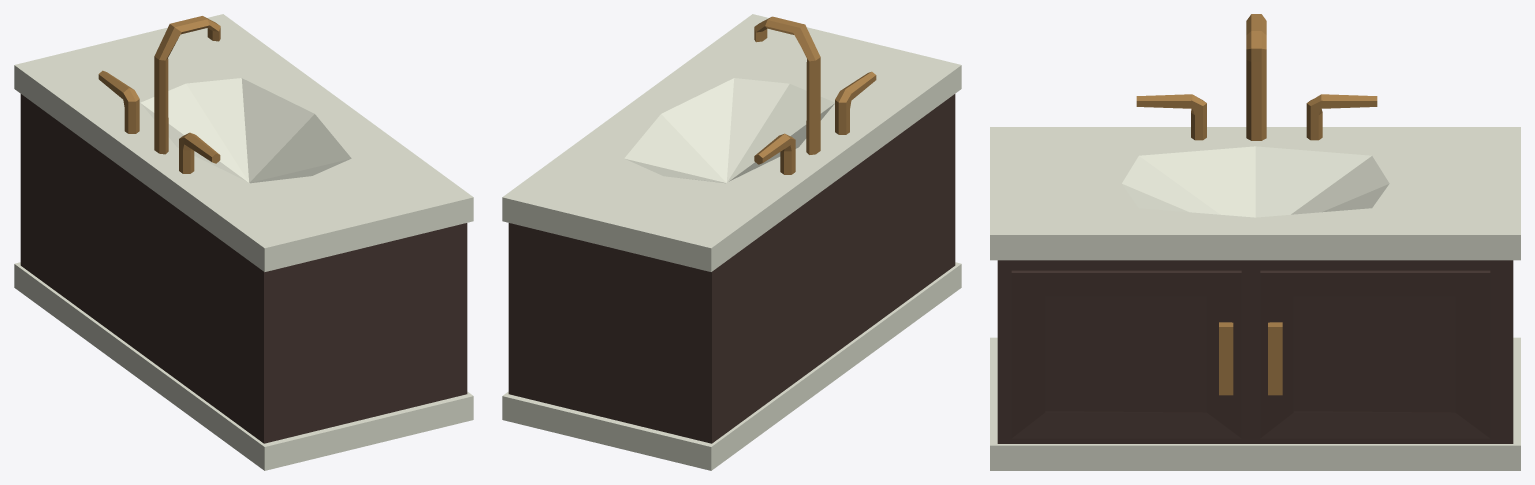
The model's file is Sink.fbx.
The picture shows the model from 3 angles, left to right: view 1: azimuth 30°, elevation 25°; view 2: azimuth 150°, elevation 25°; view 3: azimuth 270°, elevation 25°; orthographic projection. The views are drawn at different scales.
Parts seen in each view (by area): view 1: Cube, Cube.001, Cube.002, Cylinder, Cylinder.001, Cylinder.002; view 2: Cube, Cube.001, Cube.002, Cylinder, Cylinder.002, Cylinder.001; view 3: Cube.001, Cube, Cube.003, Cube.004, Cube.002, Cylinder, Cylinder.001, Cylinder.002, Cube.006, Cube.005.
Boxes of the visible parts, bbox=[...] form: Cube: bbox=[20, 94, 467, 443]; Cube.001: bbox=[14, 14, 473, 271]; Cube.002: bbox=[14, 262, 473, 470]; Cylinder: bbox=[154, 16, 220, 154]; Cylinder.001: bbox=[98, 70, 139, 133]; Cylinder.002: bbox=[179, 132, 220, 173]; Cube: bbox=[508, 94, 955, 443]; Cube.001: bbox=[502, 14, 961, 271]; Cube.002: bbox=[502, 262, 961, 470]; Cylinder: bbox=[754, 16, 820, 154]; Cylinder.002: bbox=[835, 71, 876, 134]; Cylinder.001: bbox=[754, 133, 795, 174]; Cube.001: bbox=[990, 127, 1520, 260]; Cube: bbox=[997, 260, 1513, 443]; Cube.003: bbox=[1011, 270, 1241, 438]; Cube.004: bbox=[1260, 270, 1490, 438]; Cube.002: bbox=[990, 337, 1520, 470]; Cylinder: bbox=[1246, 14, 1266, 140]; Cylinder.001: bbox=[1306, 94, 1377, 140]; Cylinder.002: bbox=[1136, 94, 1206, 140]; Cube.006: bbox=[1268, 322, 1282, 395]; Cube.005: bbox=[1219, 322, 1233, 395].
Bounding box in the file's own units: 165 × 249 × 328.
